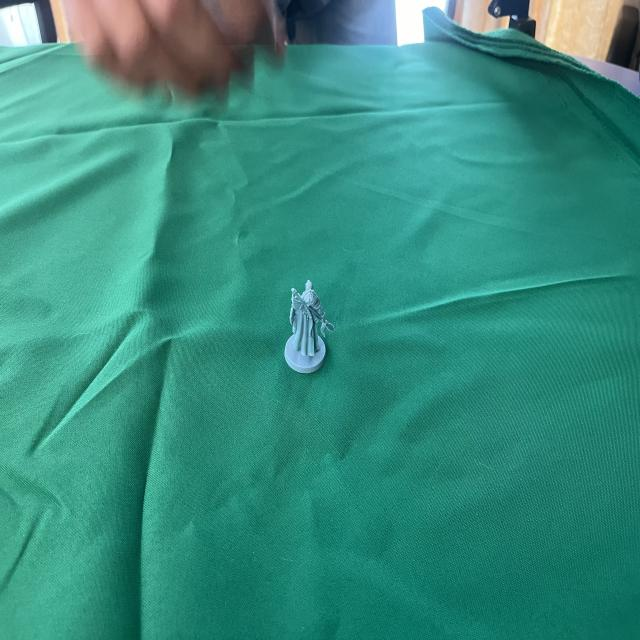isis_follower: (274, 271, 343, 381)
